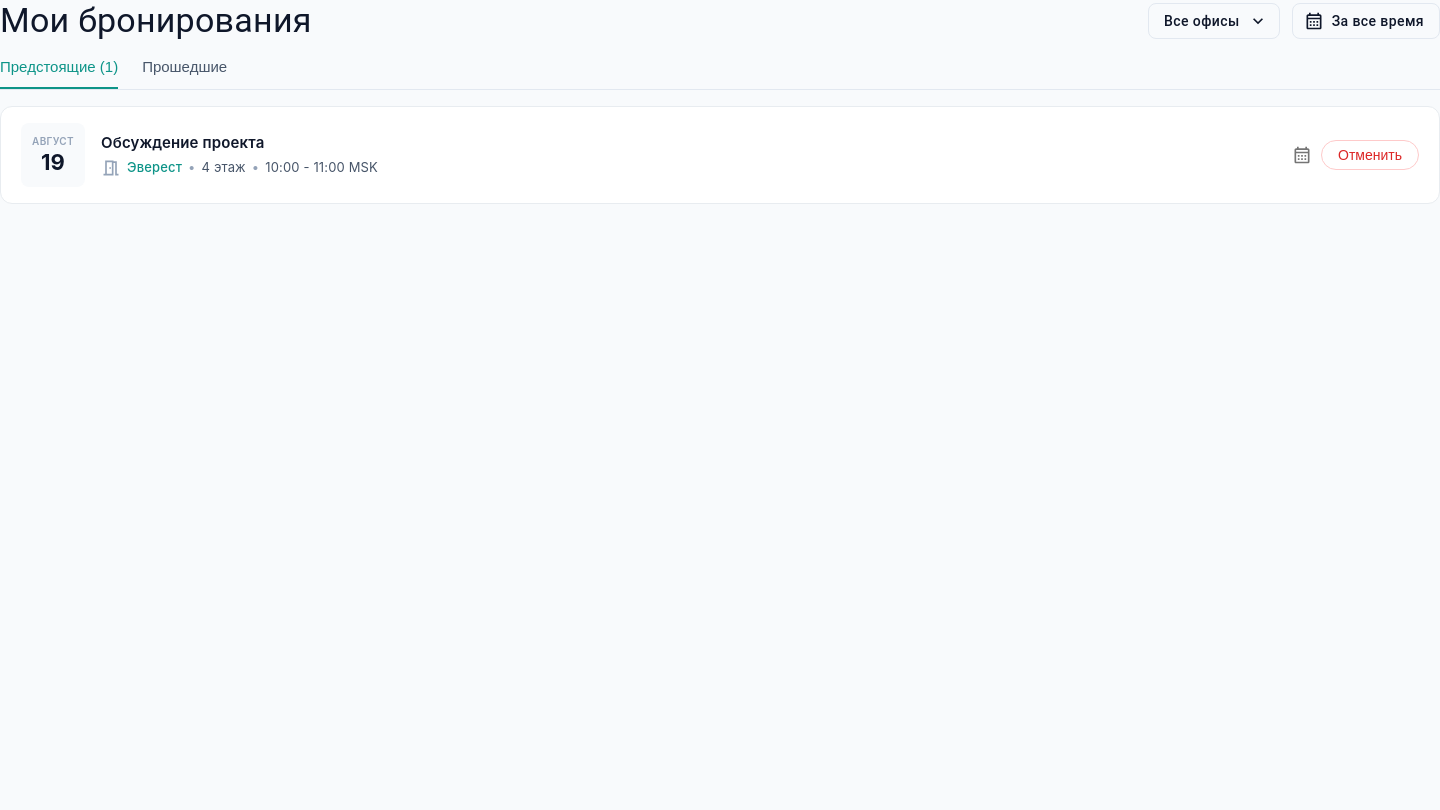
Test: BookingsPage › открывает диалог подтверждения по клику на "Отменить"
Click the button "Отменить": click(1370, 155) [1321,140,1419,170]
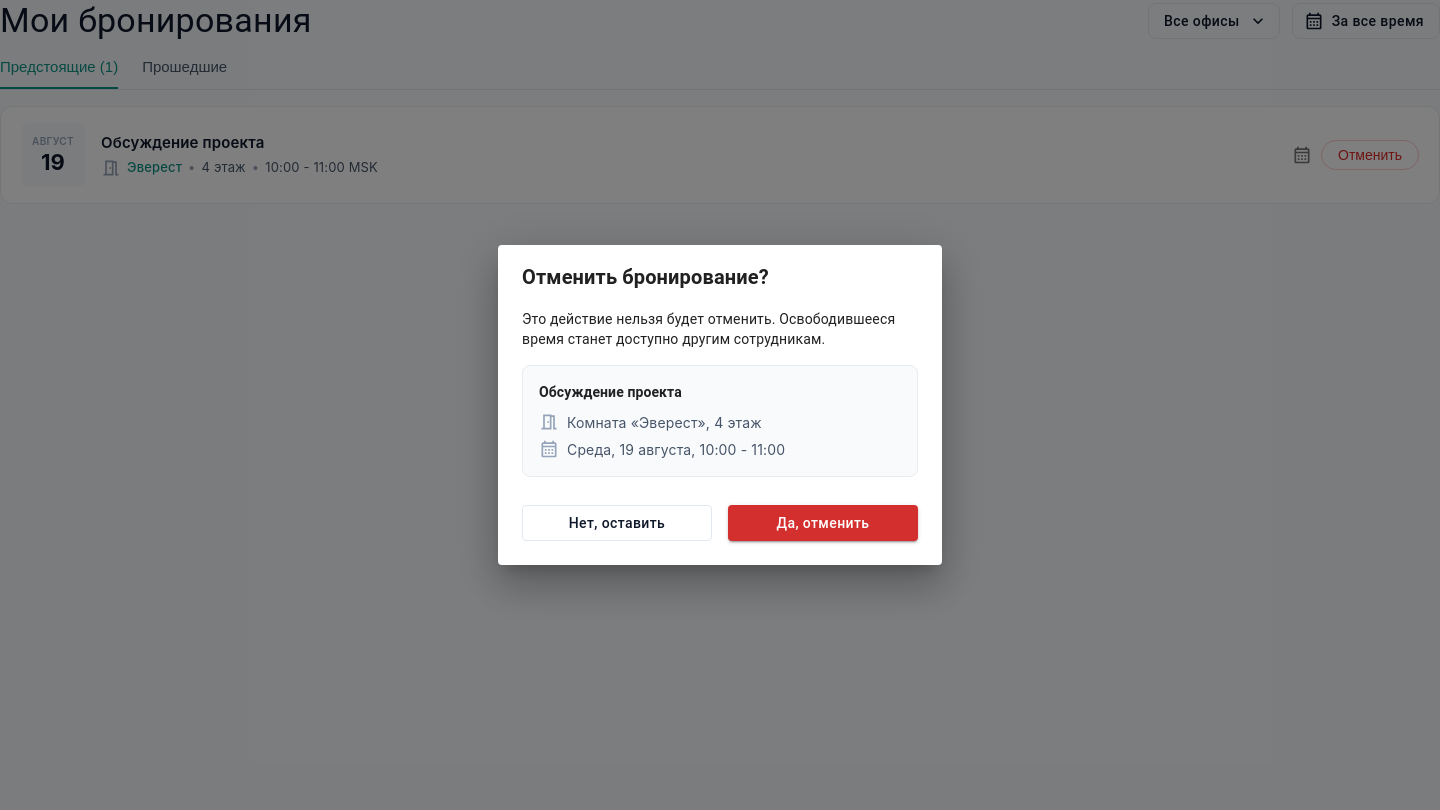
Result: the heading "Отменить бронирование?" is shown at [522,265,769,289]
